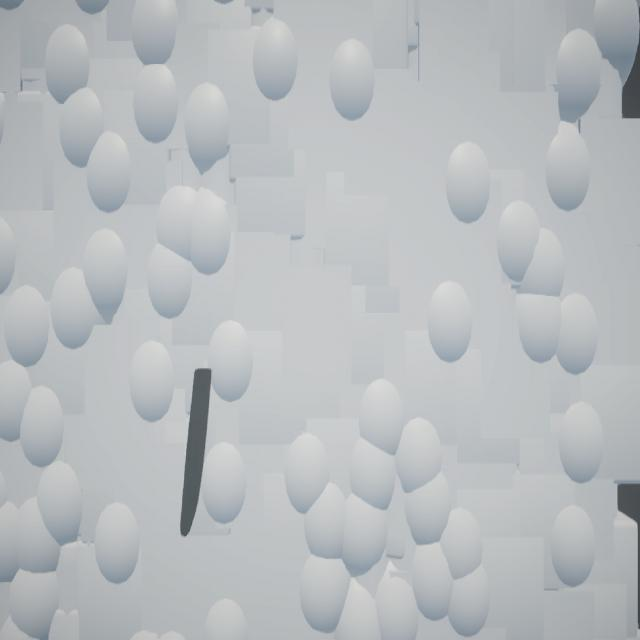top_knife: (181, 370, 213, 539)
